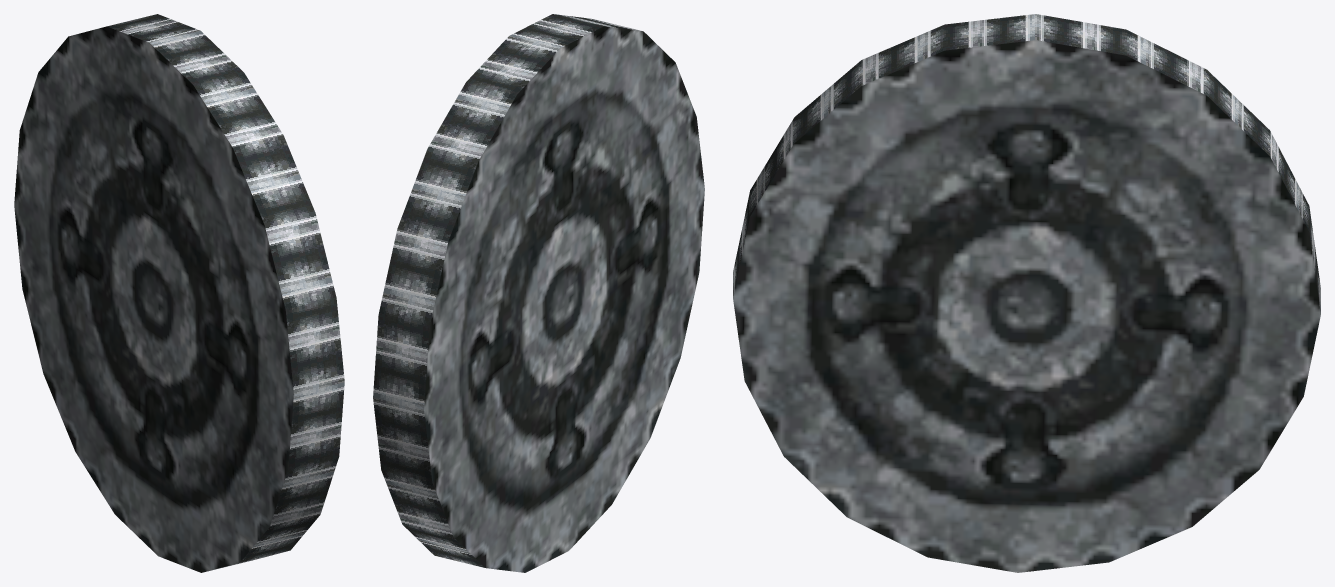
Rendered from INST_PUZZLE_PIECE2_PIECE2_SILVER.fbx.
3 views of the same model, side by side, from view 1: azimuth 30°, elevation 25°; view 2: azimuth 150°, elevation 25°; view 3: azimuth 270°, elevation 25° (orthographic). The views are drawn at different scales.
Visible parts, largest first — view 1: INST_PUZZLE_PIECE2_PIECE2_SILVER; view 2: INST_PUZZLE_PIECE2_PIECE2_SILVER; view 3: INST_PUZZLE_PIECE2_PIECE2_SILVER.
Boxes of the visible parts, box(x1,y1,x2,y2) form: INST_PUZZLE_PIECE2_PIECE2_SILVER: box(14, 14, 344, 572); INST_PUZZLE_PIECE2_PIECE2_SILVER: box(373, 14, 704, 572); INST_PUZZLE_PIECE2_PIECE2_SILVER: box(733, 14, 1320, 572).
Bounding box in the file's own units: 488 × 4648 × 4648.
2 materials, 2 textured.
